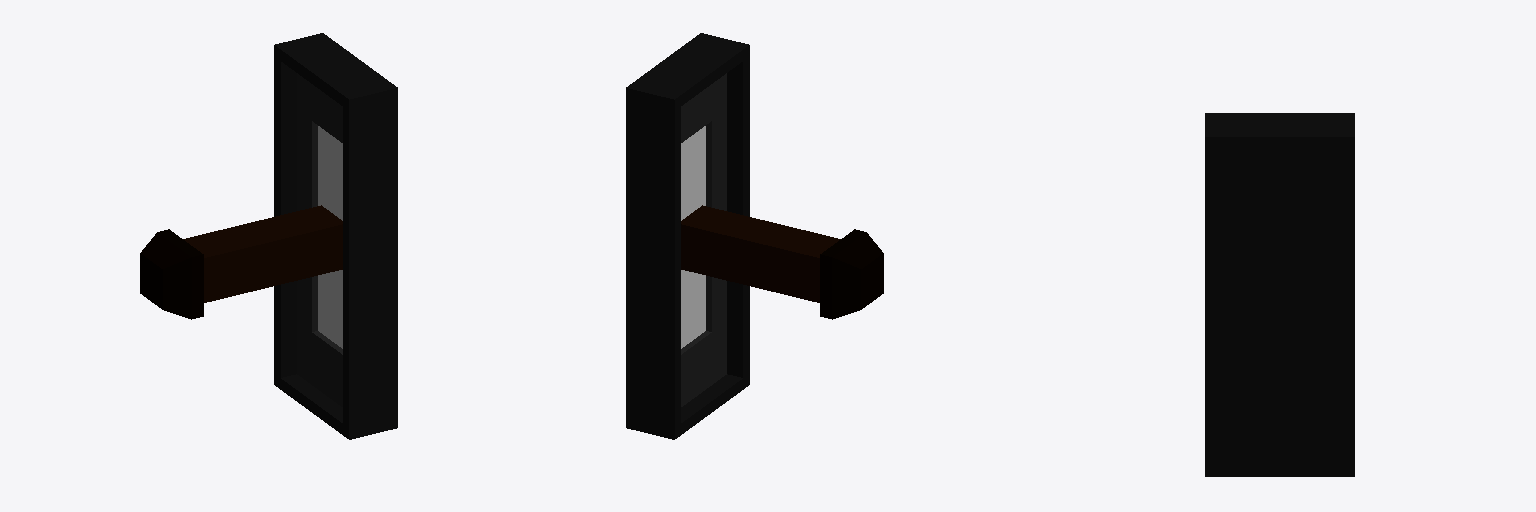
The model's file is lever.obj.
The picture shows the model from 3 angles: view 1: azimuth 30°, elevation 25°; view 2: azimuth 150°, elevation 25°; view 3: azimuth 270°, elevation 25°; orthographic projection.
Parts seen in each view (by area): view 1: Cube_Cube.001, Cube.001_Cube.002; view 2: Cube_Cube.001, Cube.001_Cube.002; view 3: Cube_Cube.001.
Boxes of the visible parts, x1=… form: Cube_Cube.001: x1=274, y1=33, x2=397, y2=439; Cube.001_Cube.002: x1=140, y1=205, x2=342, y2=319; Cube_Cube.001: x1=626, y1=33, x2=749, y2=439; Cube.001_Cube.002: x1=681, y1=205, x2=883, y2=319; Cube_Cube.001: x1=1205, y1=113, x2=1354, y2=476.
Size of the model in its own units: 4.62 by 7.19 by 2.88.